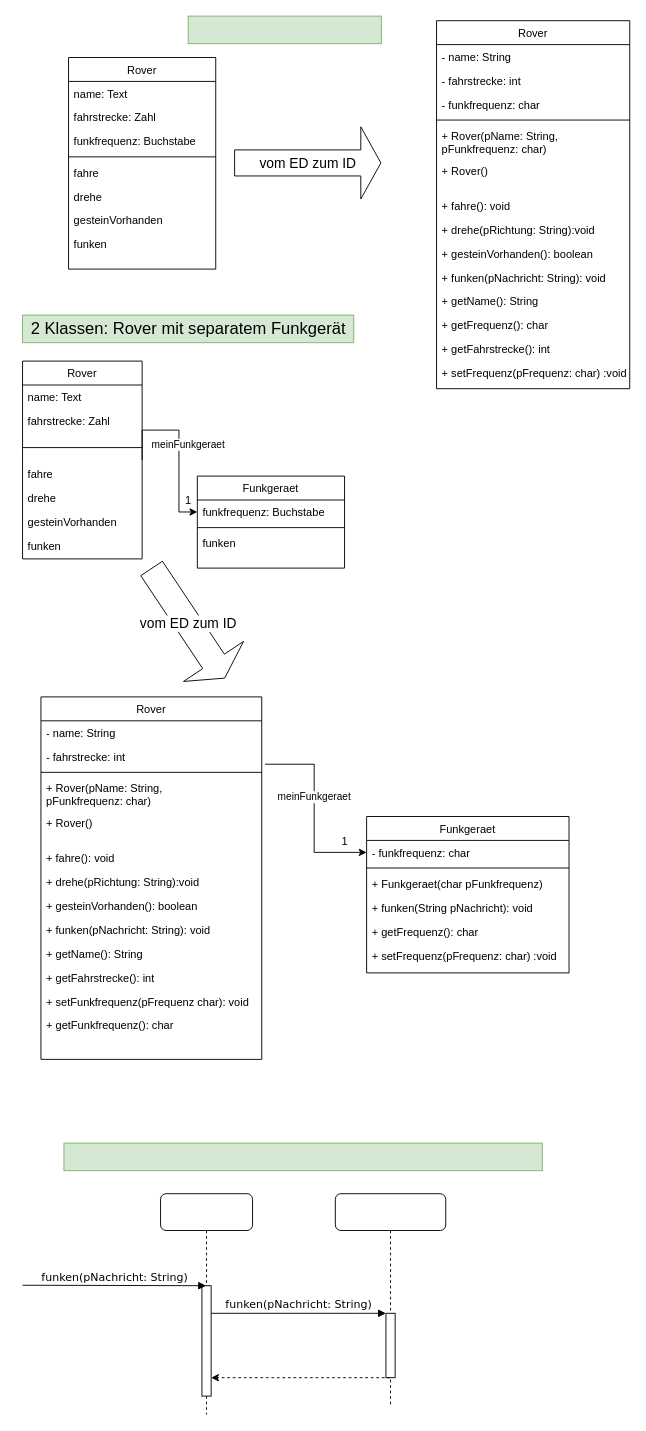
This 646x1431 diagram has some shape labels left out. Here are the shapes that lost their labels. From the top down, the centre of each, then its label:
At (x=284, y=29): "Nur eine Klasse: Rover".
At (x=302, y=1156): "Sequenzdiagramm vom Anwendungsfall: Rover funkt Nachricht".
At (x=206, y=1303): "rover1:Rover".
At (x=390, y=1299): "funky:Funkgeraet".
